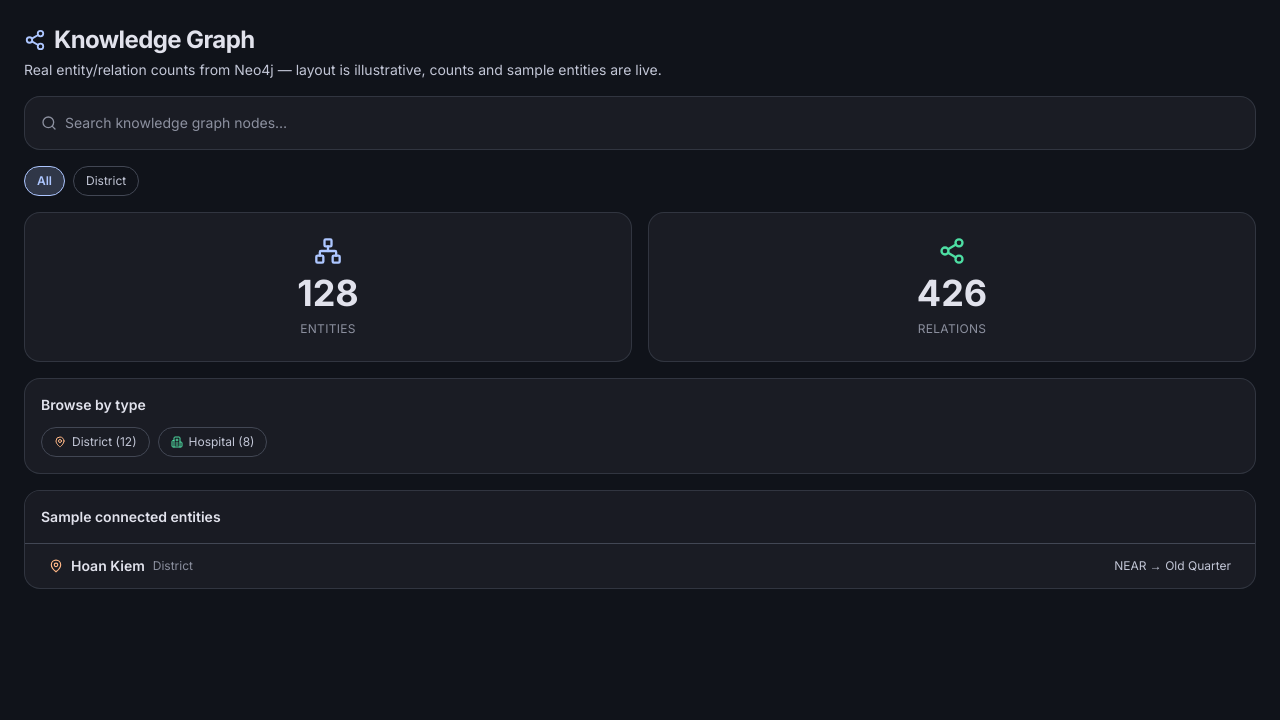
it: KnowledgeGraphPage › shows label chips with counts and lists entities when a chip is clicked
Expected: the button "Hospital (8)" is shown, x1=158 y1=427 x2=267 y2=457
Click the button "District (12)". click: point(95, 442)
box: x1=41 y1=427 x2=150 y2=457
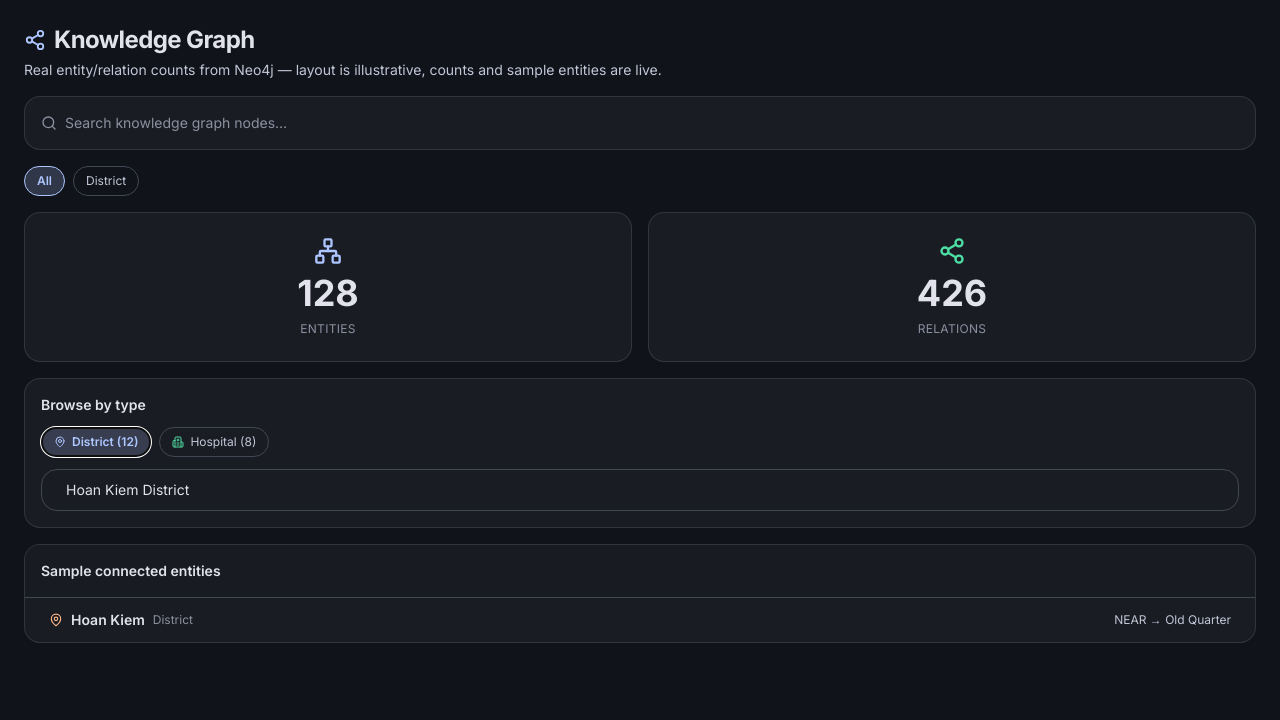
Result: the button "Hoan Kiem District" is shown at x1=42 y1=470 x2=1238 y2=510
